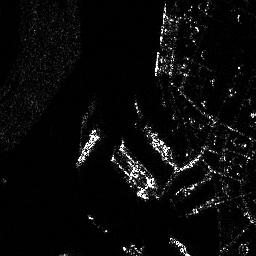ship: (117, 142, 159, 189), (110, 155, 149, 199), (141, 124, 174, 160), (75, 129, 95, 168)
